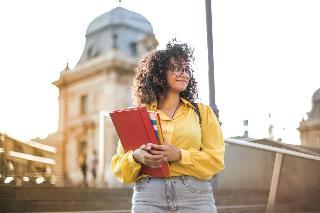person - v3 P: (111, 40, 224, 212), (79, 151, 87, 186), (91, 150, 97, 187)
